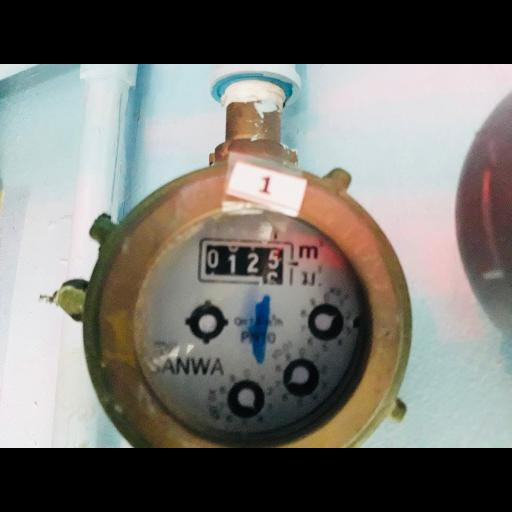0: (204, 245, 224, 276)
1: (223, 246, 244, 277)
2: (242, 247, 264, 278)
5: (263, 248, 284, 286)
border_water_meter_number: (197, 237, 295, 287)
